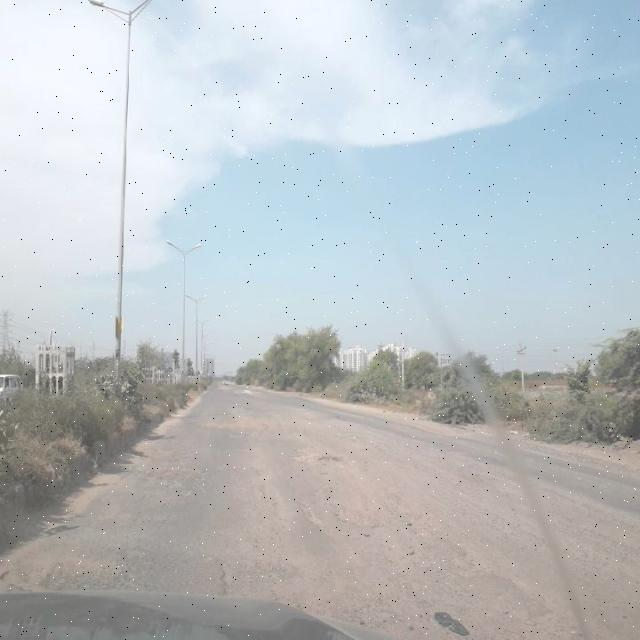D40: (421, 518, 591, 622), (1, 537, 148, 591), (229, 466, 323, 548), (215, 549, 352, 599), (130, 454, 212, 499), (185, 401, 284, 437), (330, 487, 389, 533), (292, 433, 352, 478)
